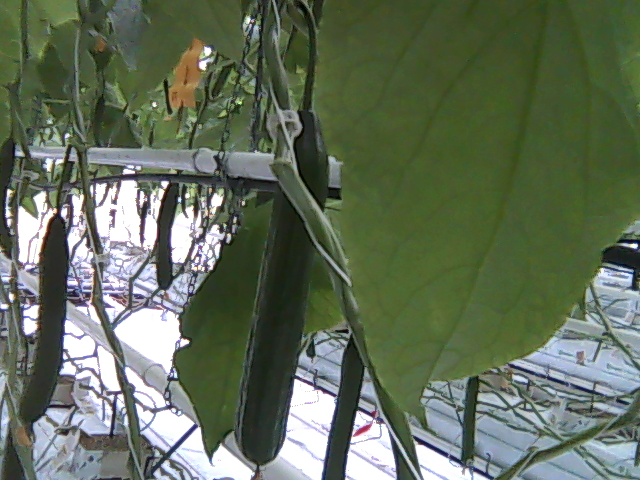concombre: (234, 96, 333, 480), (16, 203, 72, 448)
